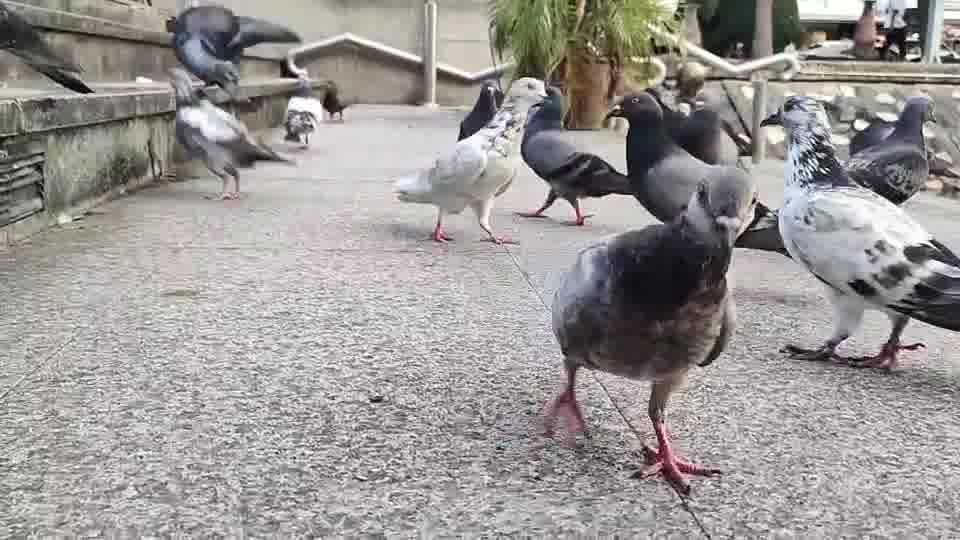Pigeon: (534, 174, 759, 496), (758, 94, 958, 372), (601, 89, 790, 259), (391, 104, 519, 244), (166, 65, 295, 200), (514, 87, 633, 226), (165, 2, 303, 92), (843, 94, 937, 206), (0, 0, 95, 94), (279, 56, 322, 148), (456, 78, 502, 142), (320, 79, 347, 120)
